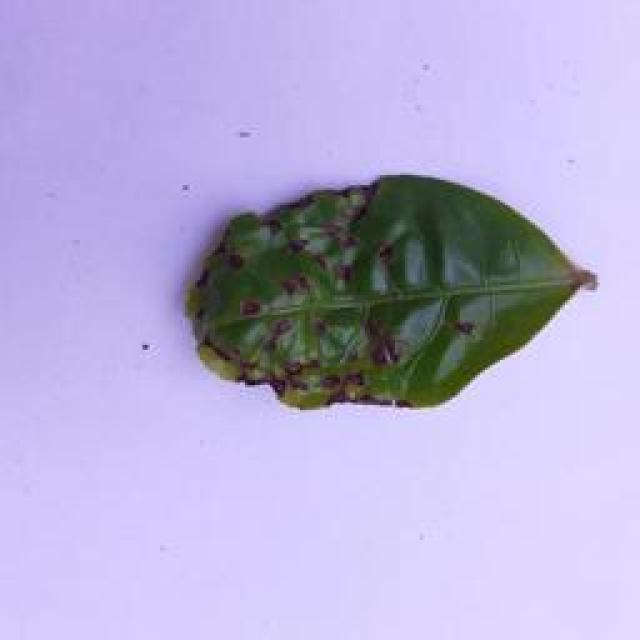Helopeltis: (180, 177, 593, 428)
